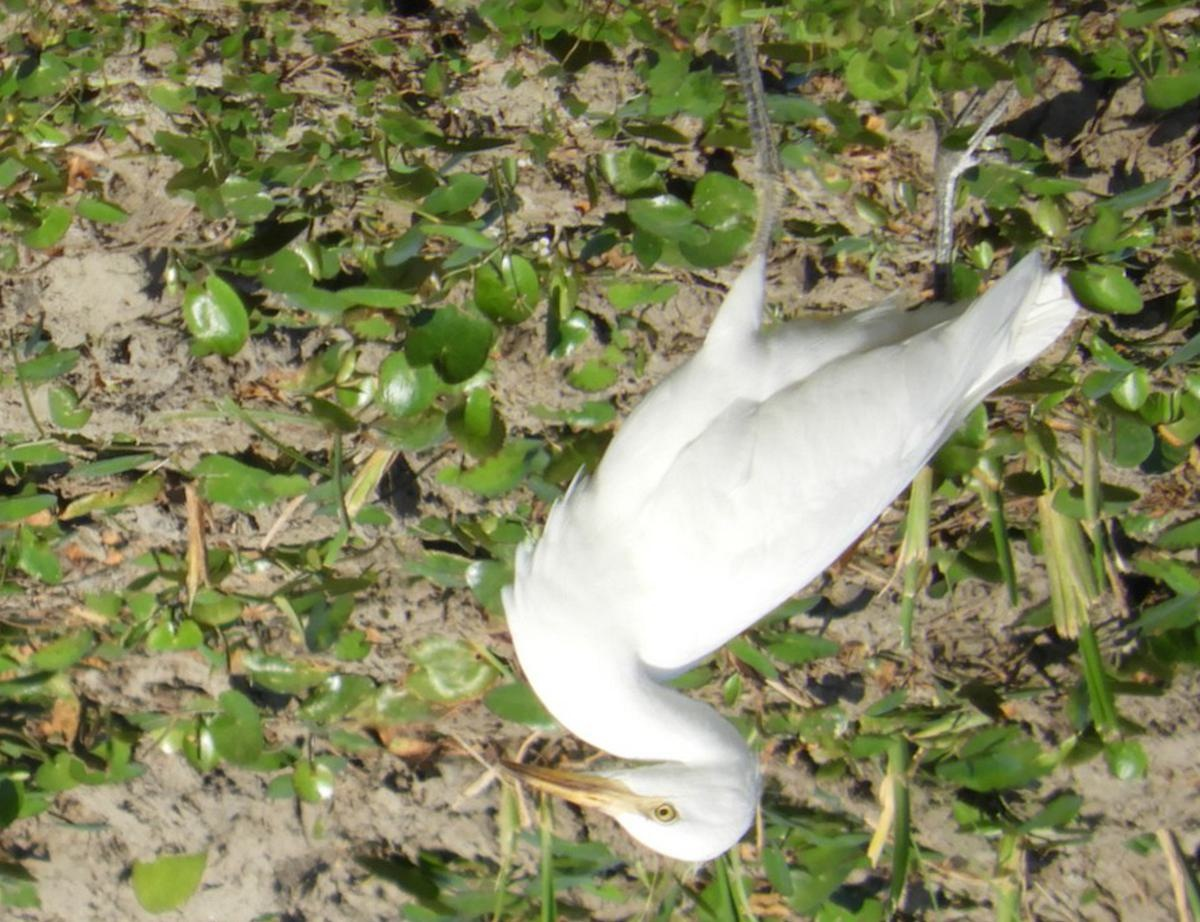egret: (469, 146, 1105, 876)
